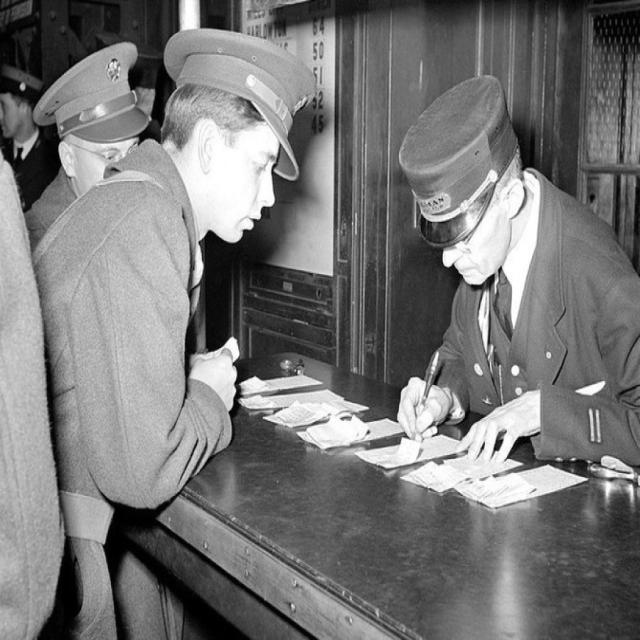body: (30, 28, 318, 639), (392, 65, 640, 482), (0, 156, 72, 639), (19, 37, 152, 255), (0, 61, 60, 213)
